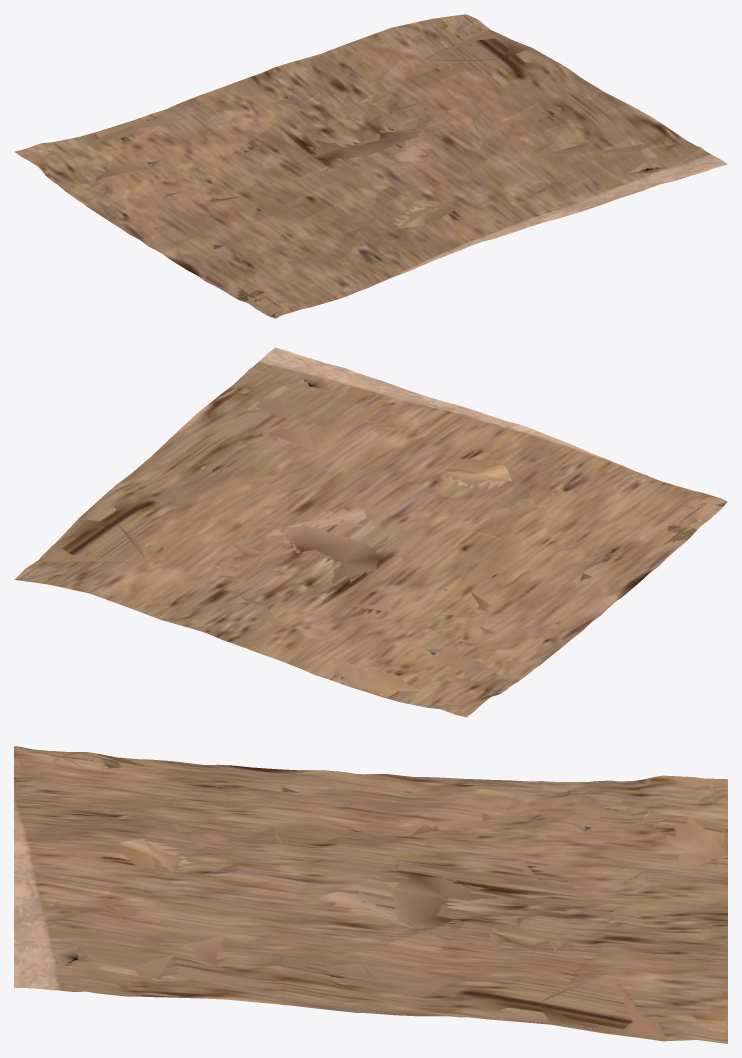
3 views of the same model, one above another, from view 1: azimuth 30°, elevation 25°; view 2: azimuth 150°, elevation 25°; view 3: azimuth 270°, elevation 25° (orthographic). The views are drawn at different scales.
Bounding box in the file's own units: 2.09 × 0.31 × 2.09.
Materials: 3 (3 with a texture image).
